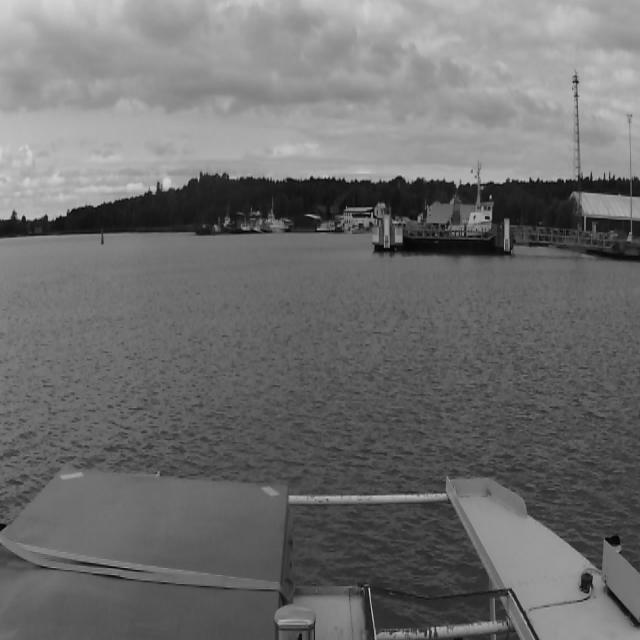buoy: (98, 223, 105, 249)
ship: (382, 151, 502, 252), (263, 212, 293, 232), (214, 214, 236, 235), (240, 212, 262, 233), (196, 223, 210, 236)
